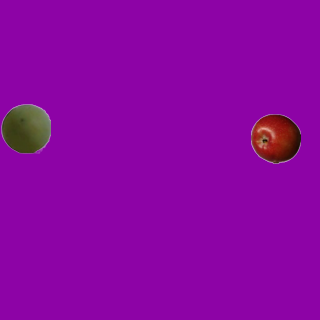Apple Braeburn: (250, 113, 300, 163)
Grape White 4: (0, 103, 50, 153)
